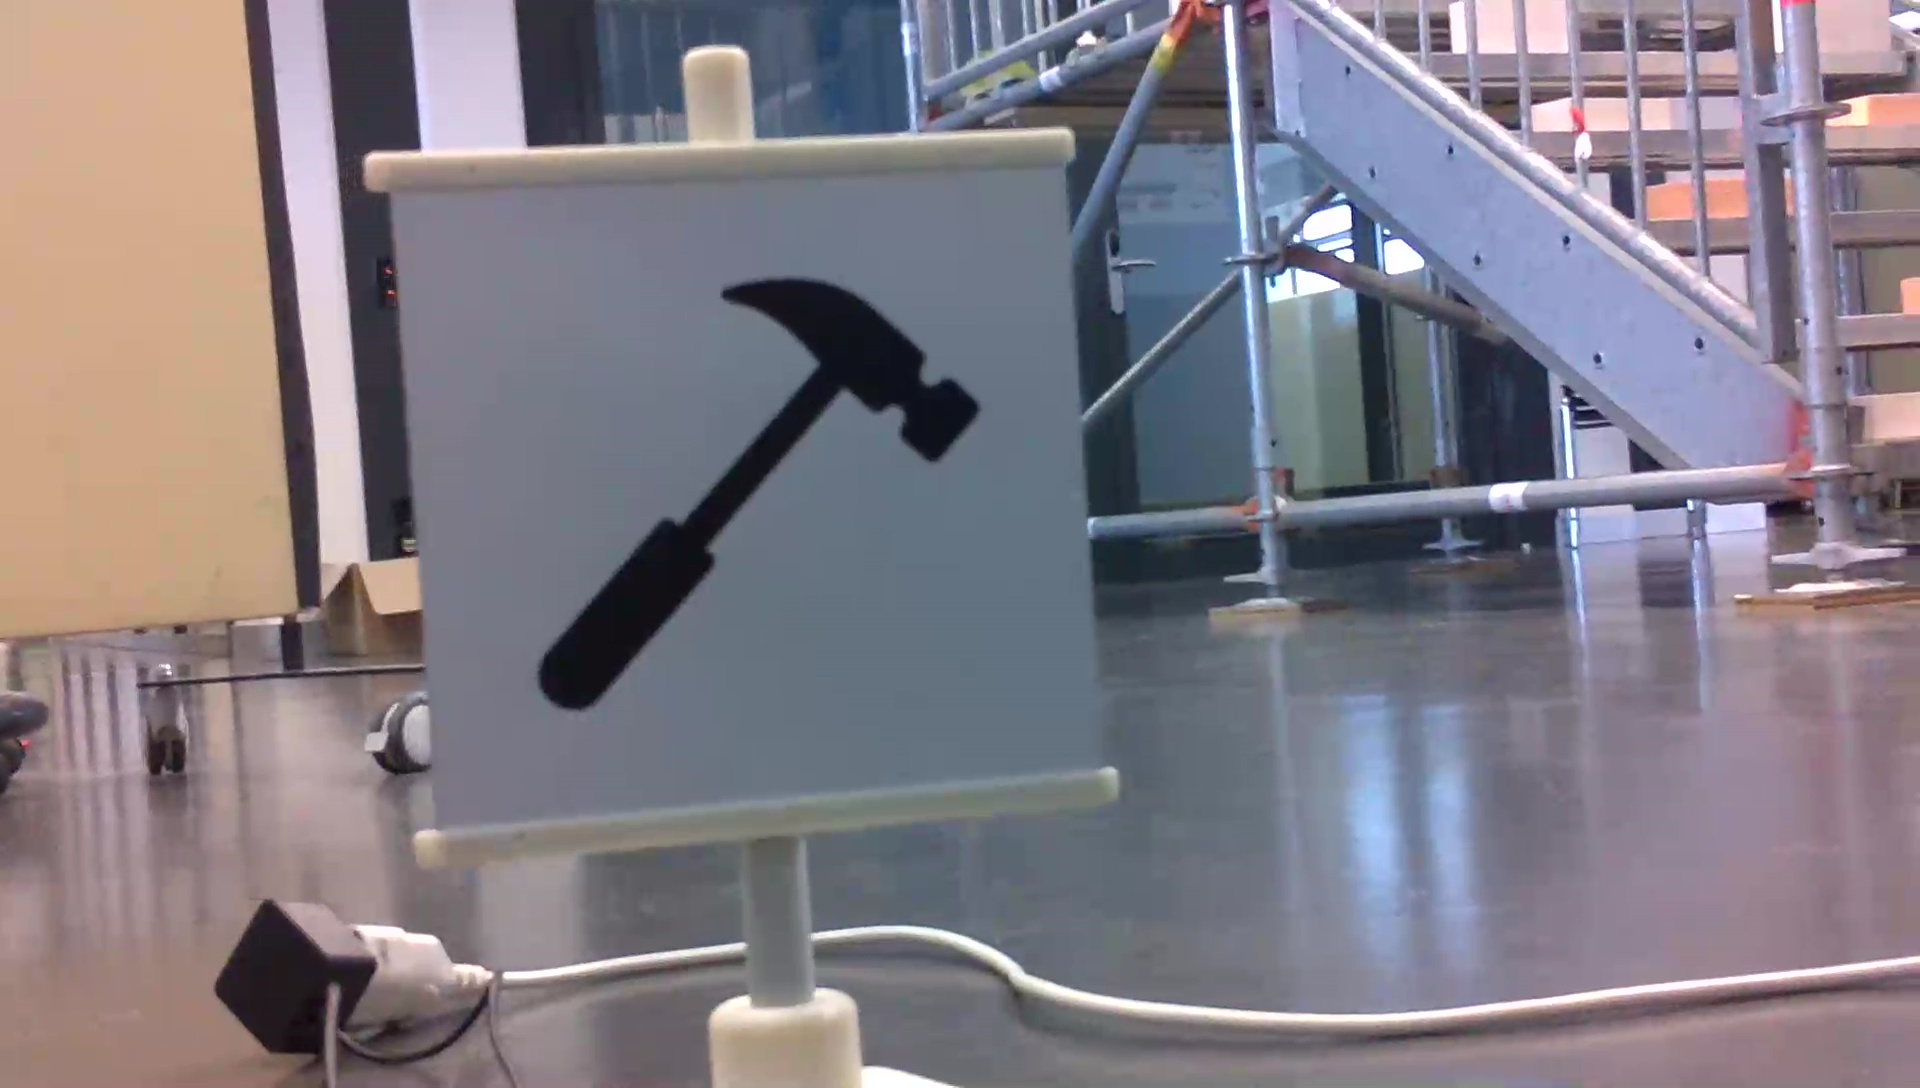brick: (1862, 388, 1920, 435), (1842, 90, 1920, 123)
hammer: (525, 270, 990, 720)
